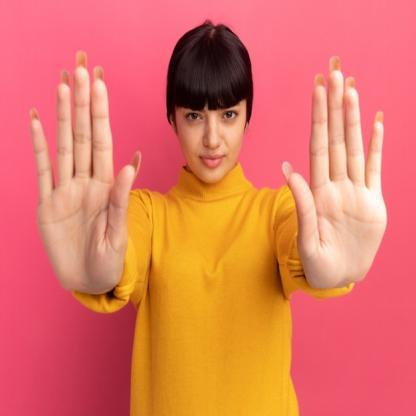stop: (26, 45, 144, 296), (279, 48, 392, 296)
